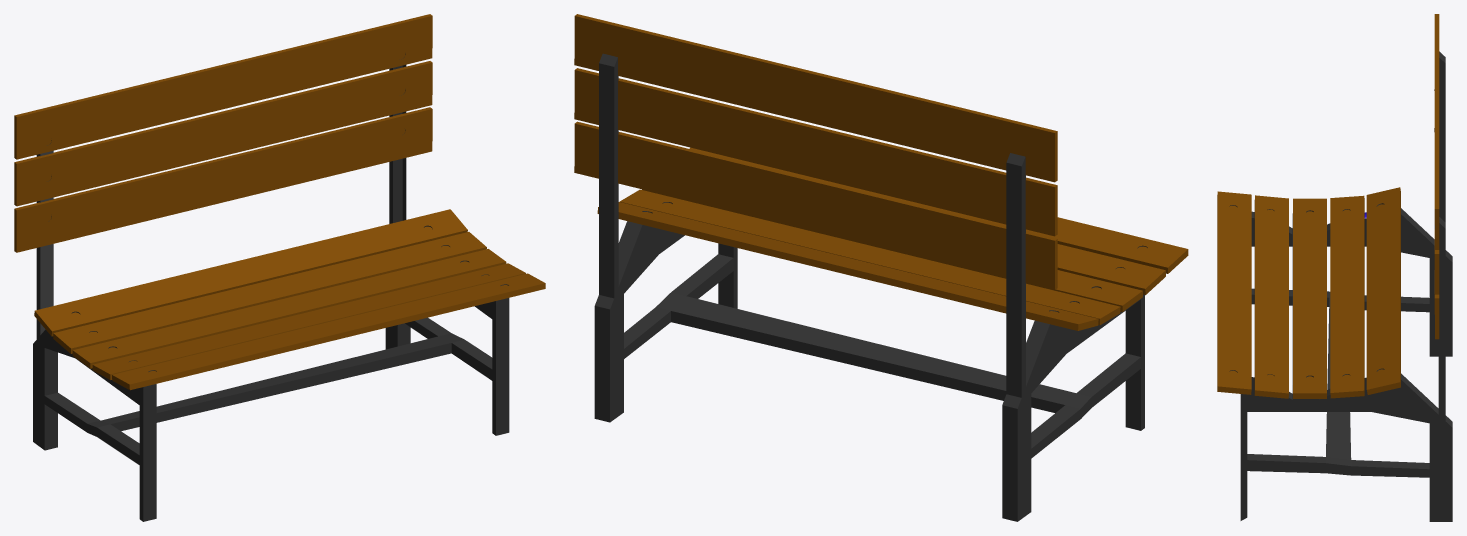
Rendered from banco-rua.glb.
3 renders of one model, left to right at view 1: azimuth 30°, elevation 25°; view 2: azimuth 150°, elevation 25°; view 3: azimuth 270°, elevation 25°, orthographic. The views are drawn at different scales.
Visible parts, largest first — view 1: Cube; view 2: Cube; view 3: Cube.
Boxes of the visible parts, box(x1,y1,x2,y2) form: Cube: box(14, 14, 545, 521); Cube: box(574, 14, 1188, 521); Cube: box(1217, 14, 1452, 521).
Size of the model in its own units: 7.29 by 5.65 by 3.72.
Materials: 1 (1 with a texture image).
